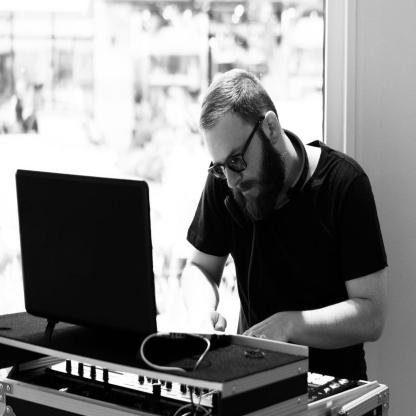board: (13, 168, 231, 348)
